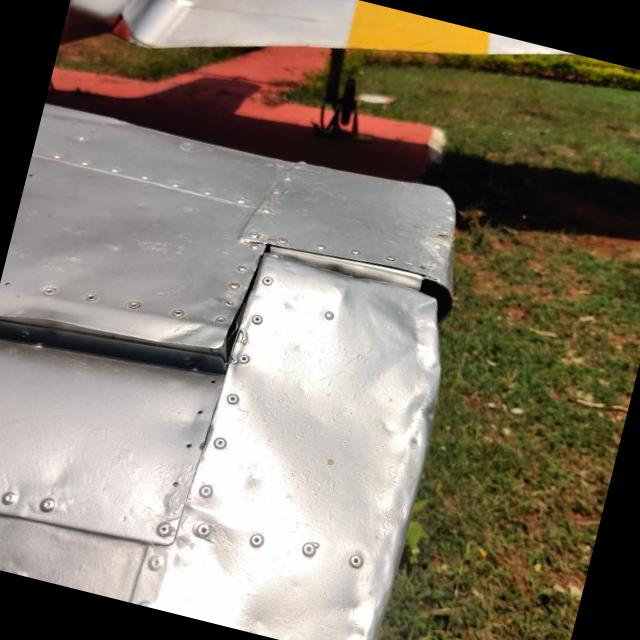Dent: (328, 273, 440, 381)
